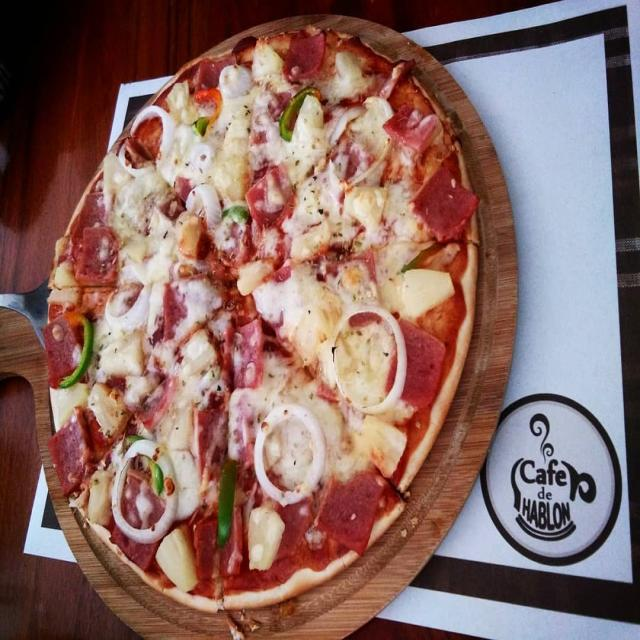pepperoni: (382, 314, 452, 409), (315, 463, 380, 553), (419, 163, 478, 246), (192, 405, 255, 477), (190, 505, 246, 582), (68, 215, 123, 292), (244, 158, 299, 230), (47, 419, 94, 494), (42, 312, 86, 387), (382, 102, 438, 156), (279, 28, 328, 84), (130, 362, 168, 432), (224, 319, 263, 387), (74, 184, 113, 241), (153, 282, 186, 347), (192, 54, 236, 93)
pizza: (45, 26, 479, 612)
